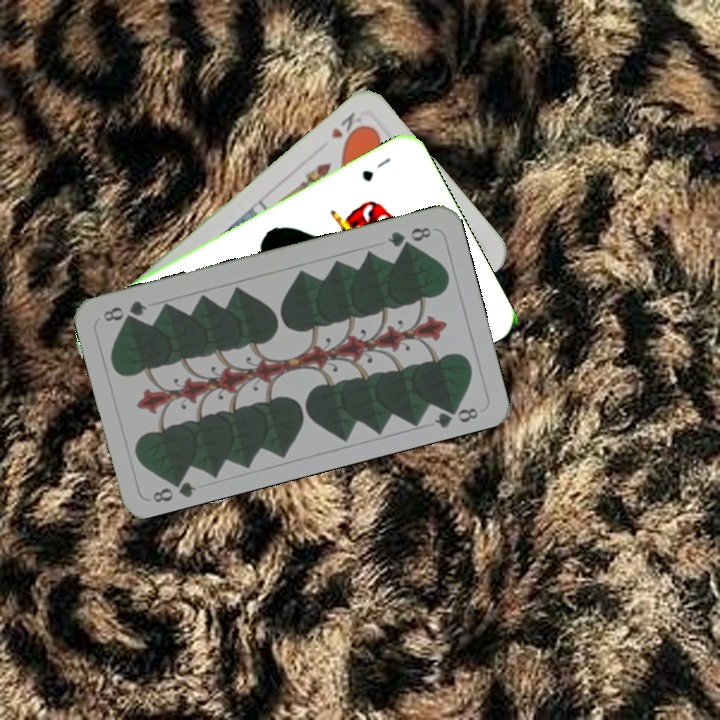G8: (148, 471, 199, 506), (383, 223, 434, 250)
GU: (358, 153, 394, 184)
HK: (326, 107, 367, 147)
